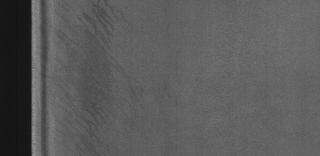water spot: (52, 2, 138, 156)
